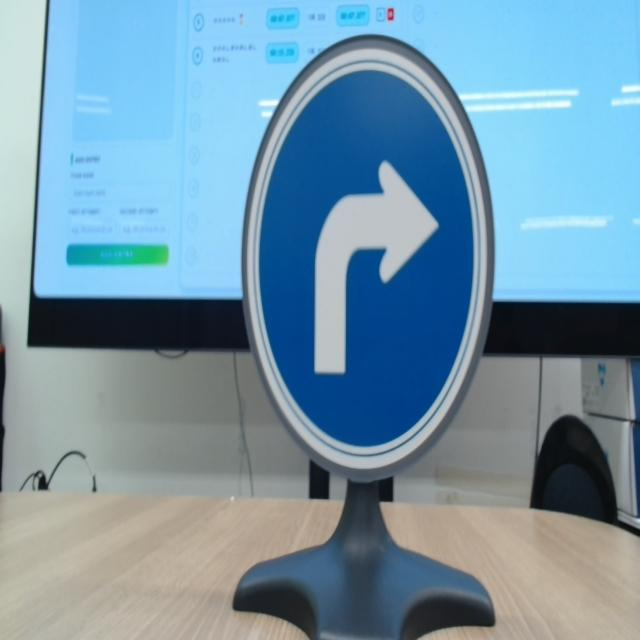right_dierection: (234, 16, 509, 507)
